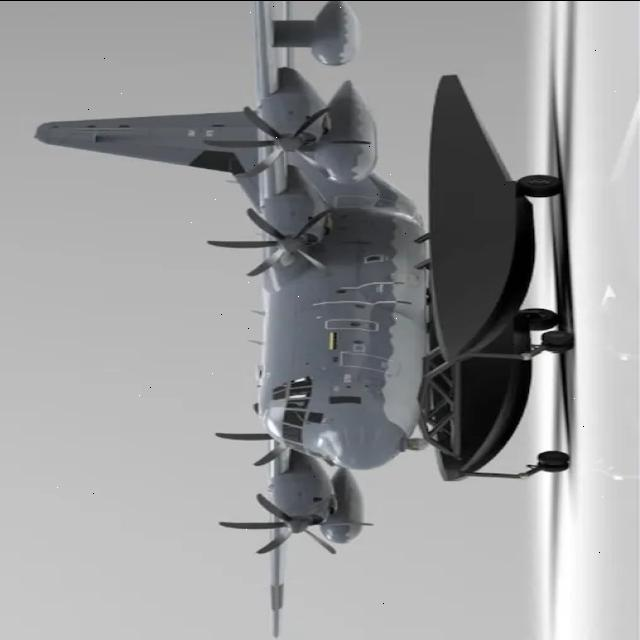C130: (30, 0, 612, 615)
